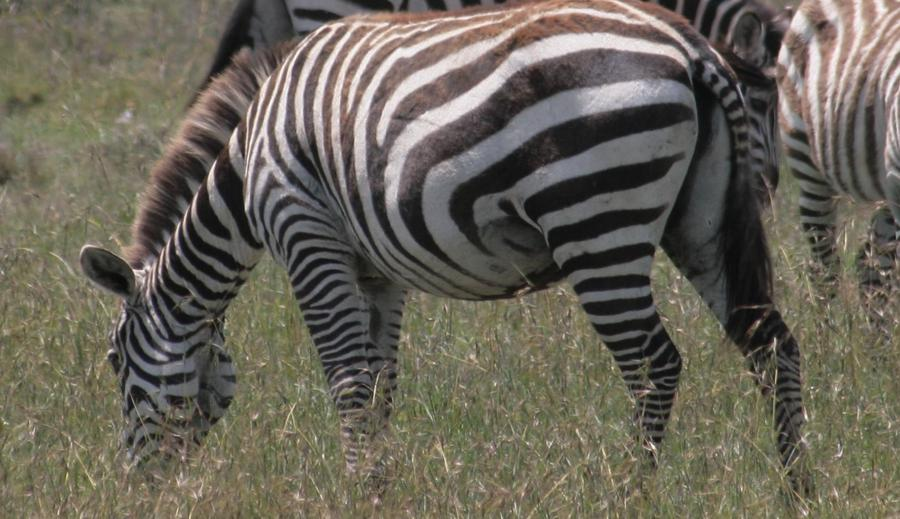zebra_plains: (223, 3, 692, 292)
